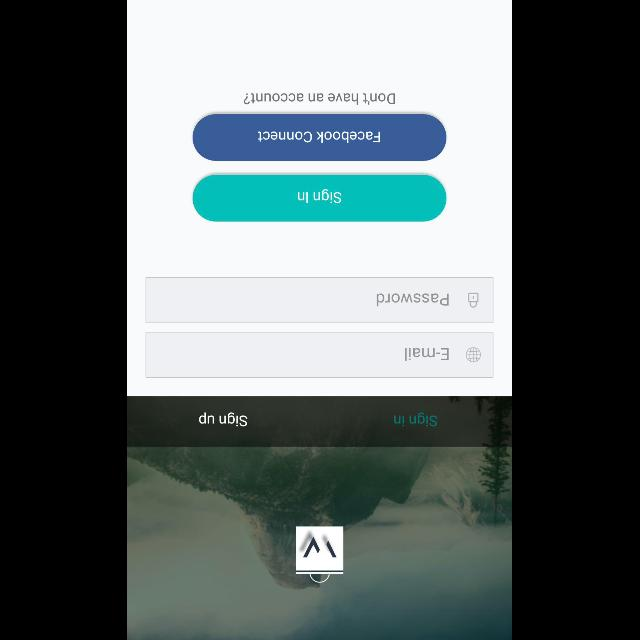icon: (468, 292, 479, 308)
image: (128, 396, 512, 640), (296, 526, 344, 582), (466, 348, 482, 362)
input: (146, 331, 494, 377), (146, 277, 494, 323)
text: (244, 93, 396, 105), (377, 292, 449, 306), (395, 411, 439, 427), (200, 412, 248, 426), (406, 348, 449, 360)
textbutton: (193, 174, 447, 222), (193, 114, 447, 160)
